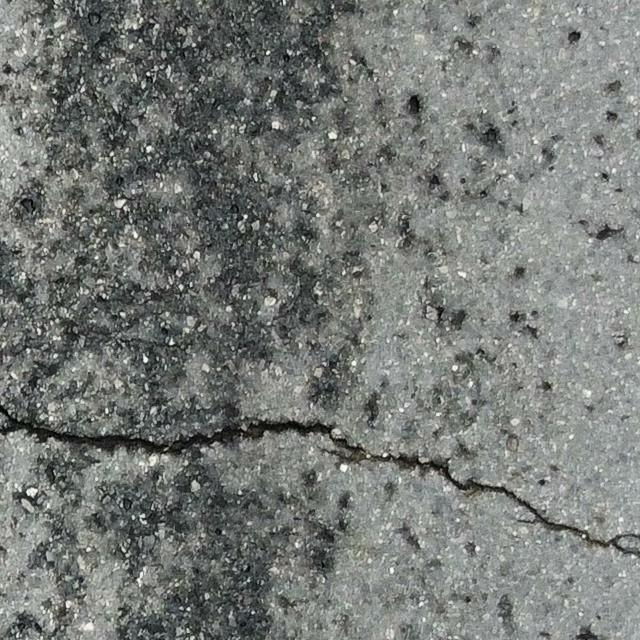TransverseCrack: (1, 407, 640, 558)
